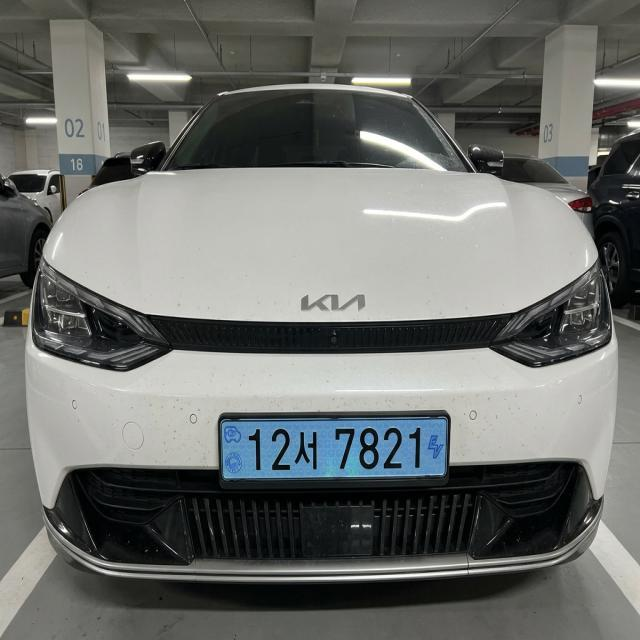car: (203, 393, 457, 500)
carev: (219, 419, 246, 479), (425, 416, 449, 480)
